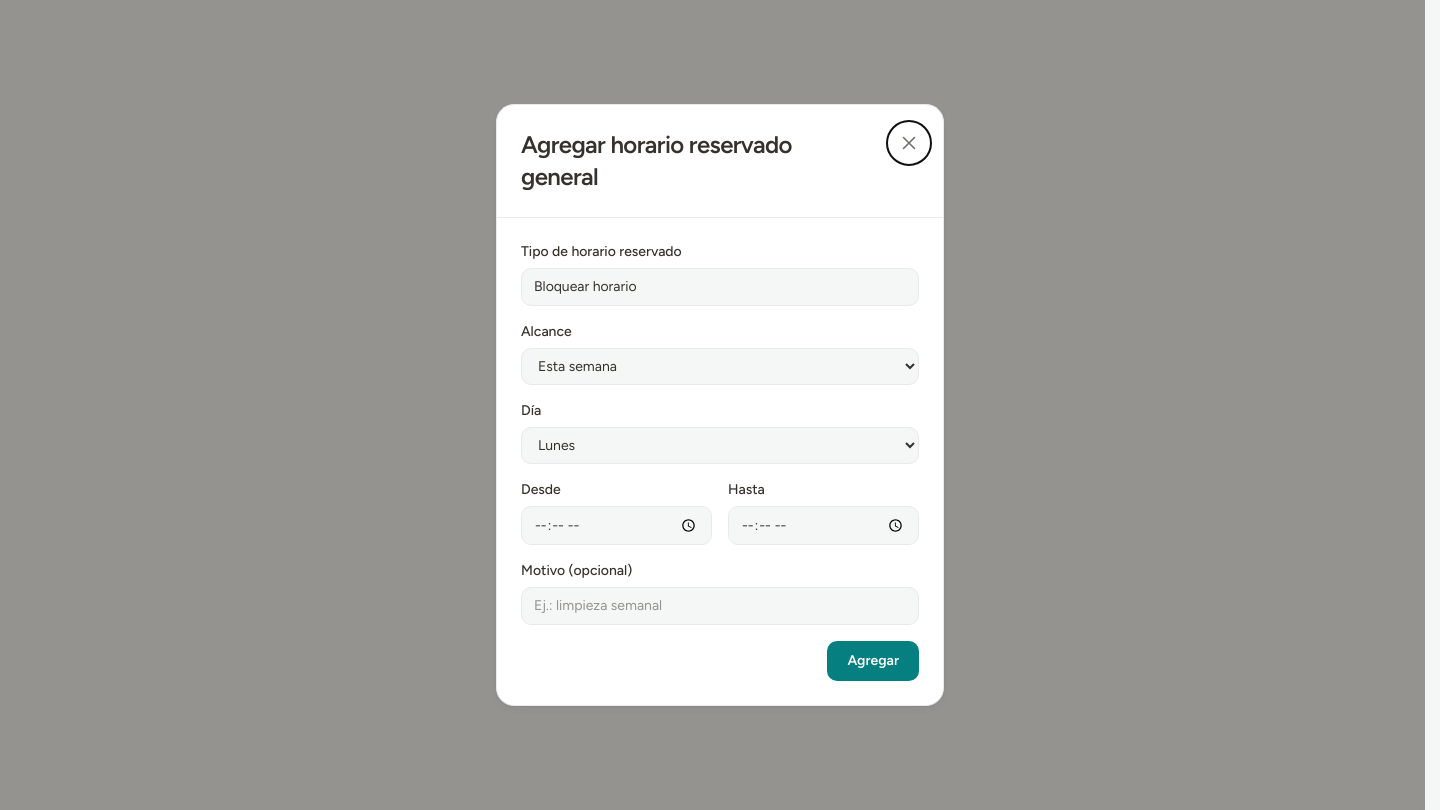
AgregarReglaModal › cerrar después de tocar un campo muestra el cartel de cambios pendientes
This screenshot has width=1440, height=810.
Type "07:00" into the time field labelled "Desde" at (616, 526), box [521,506,712,545]
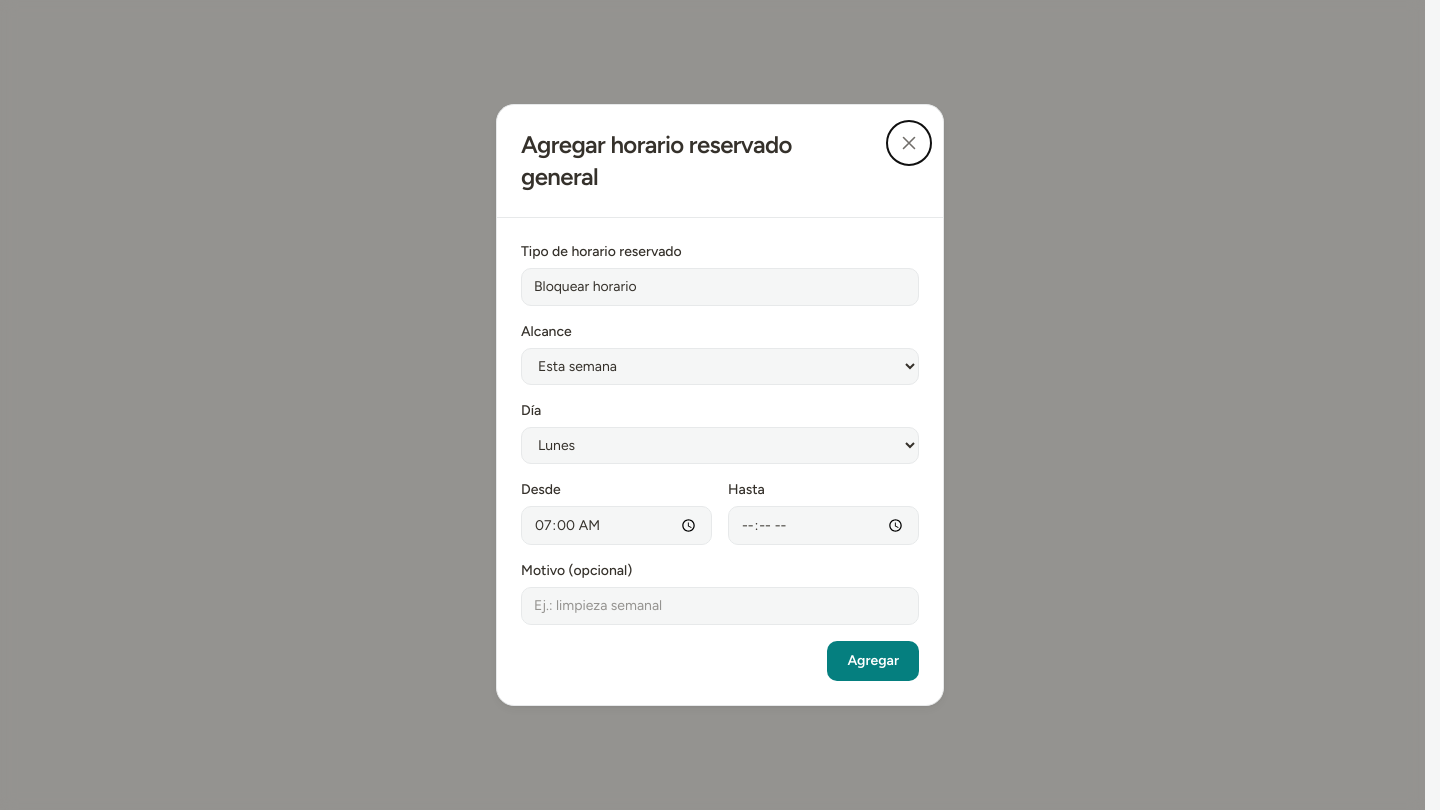
Click the button named "Cerrar" at (909, 143), box [887,121,931,165]
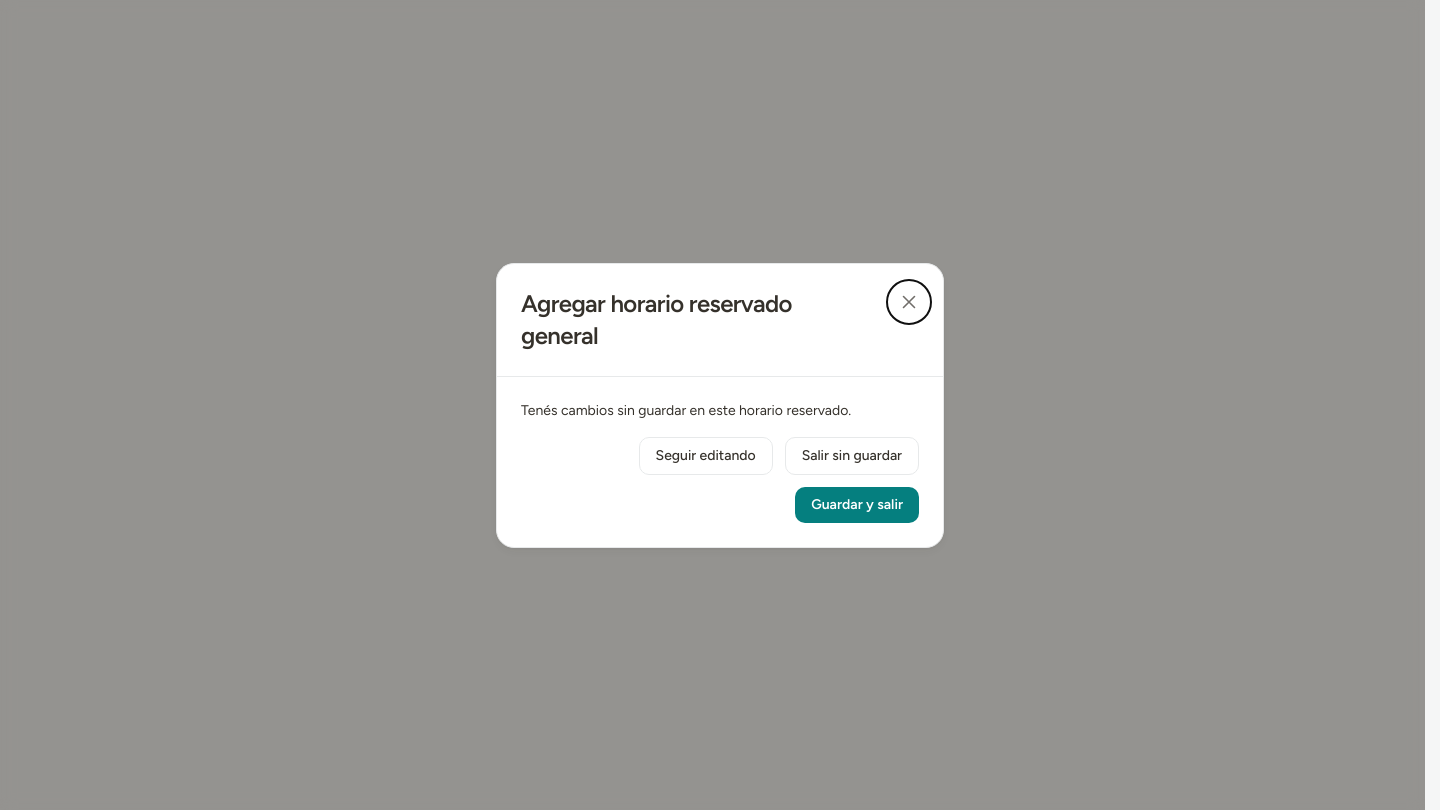
expect the text "Tenés cambios sin guardar en este horario reservado." is shown: met, box [521,402,851,418]
